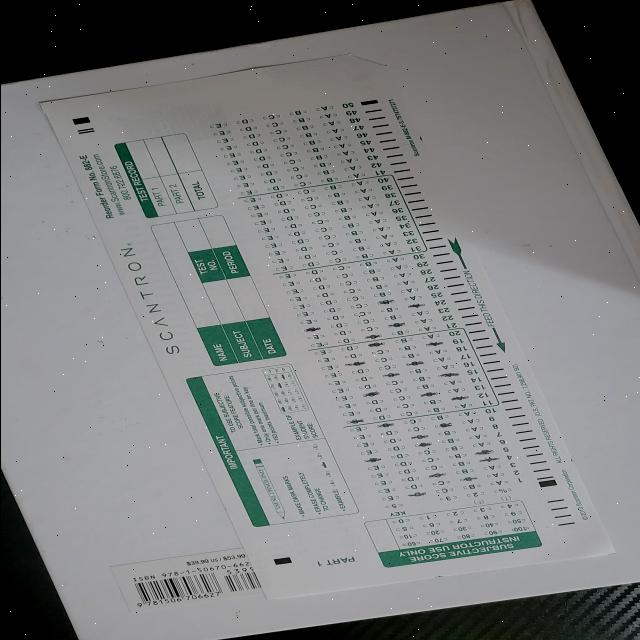scantron: (37, 54, 616, 601)
